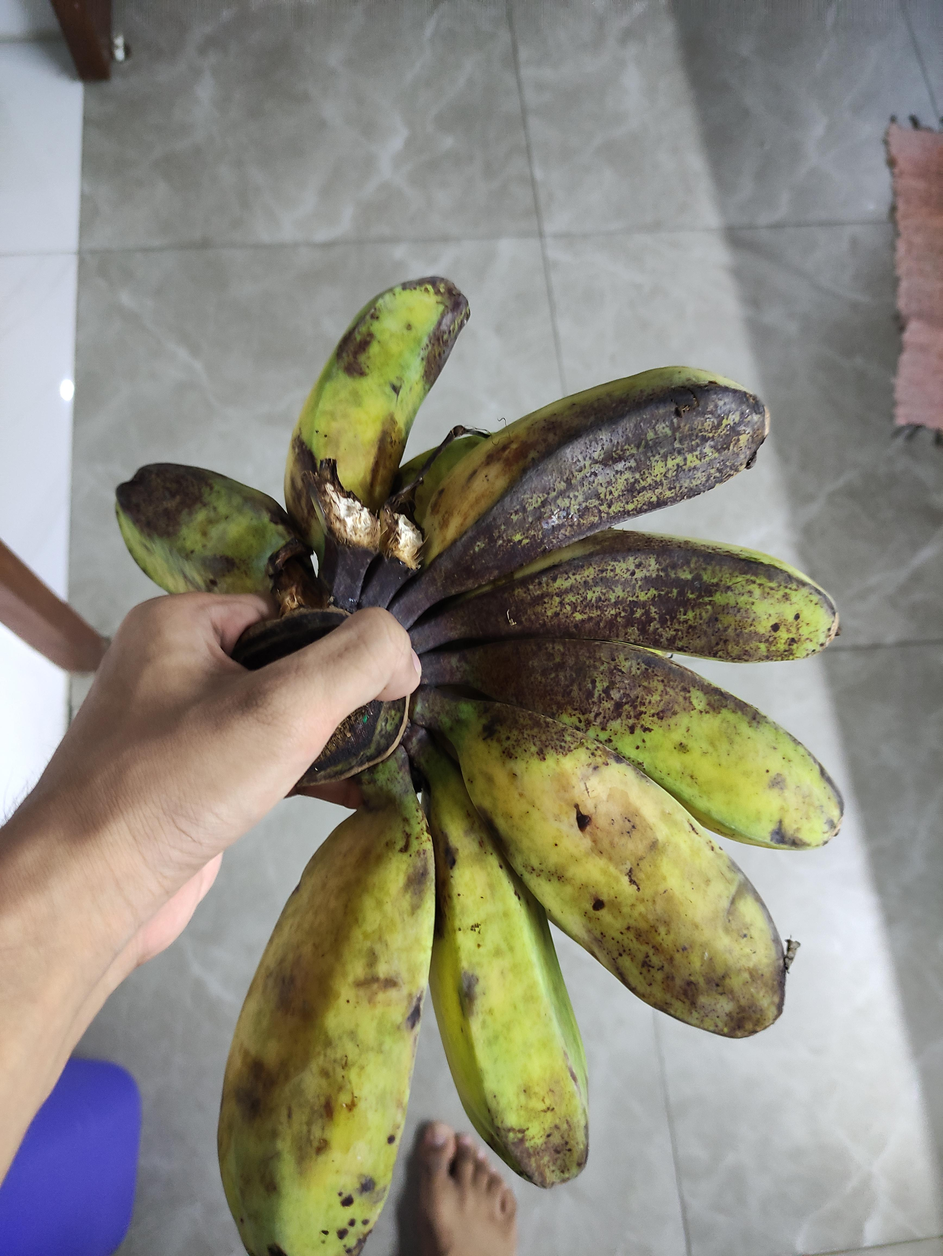underripe: (116, 277, 842, 1256)
